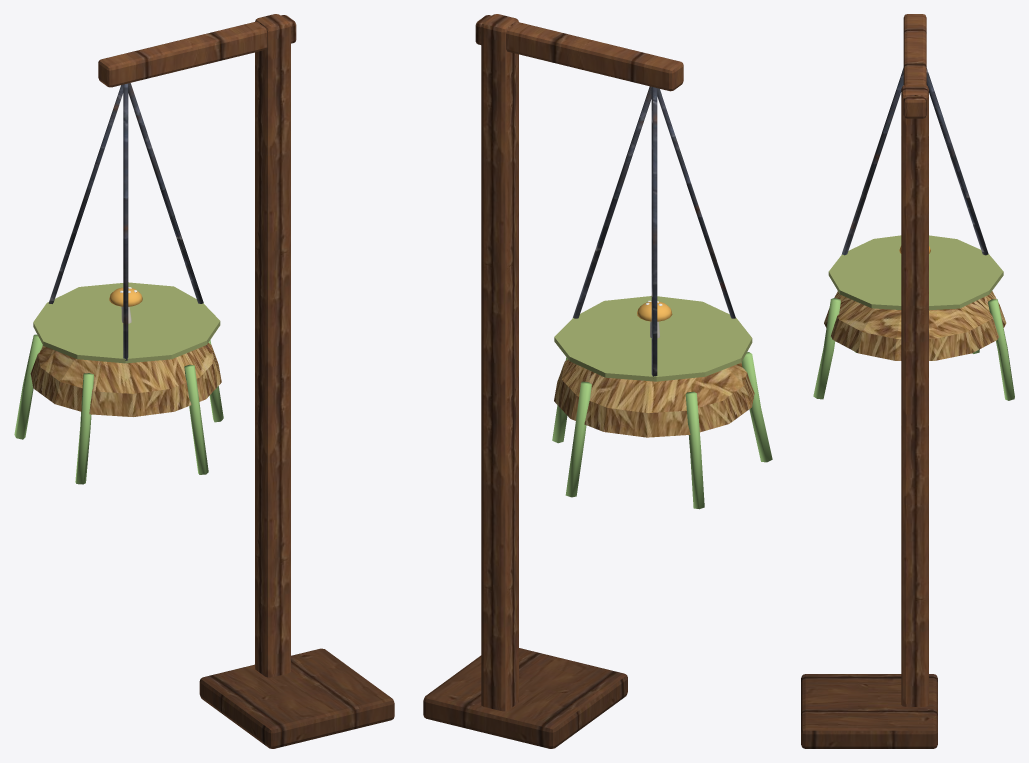
Rendered from hanging_basket.glb.
3 renders of one model, left to right at view 1: azimuth 30°, elevation 25°; view 2: azimuth 150°, elevation 25°; view 3: azimuth 270°, elevation 25°, orthographic. The views are drawn at different scales.
Parts seen in each view (by area): view 1: model; view 2: model; view 3: model.
Part boxes in pixels (box(x1,y1,x2,y2)): model: box(14, 14, 394, 748); model: box(423, 14, 772, 748); model: box(801, 14, 1014, 748).
Size of the model in its own units: 0.6965 by 1.53 by 0.4687.
Materials: 10 (4 with a texture image).
